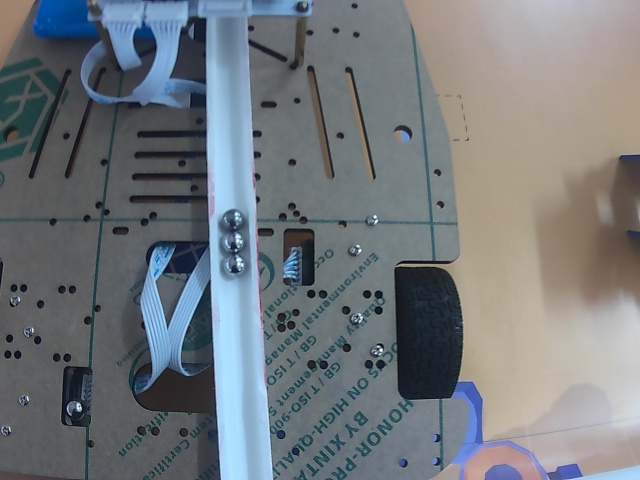steelball: (220, 232, 244, 252), (223, 255, 244, 275), (222, 209, 242, 228)
